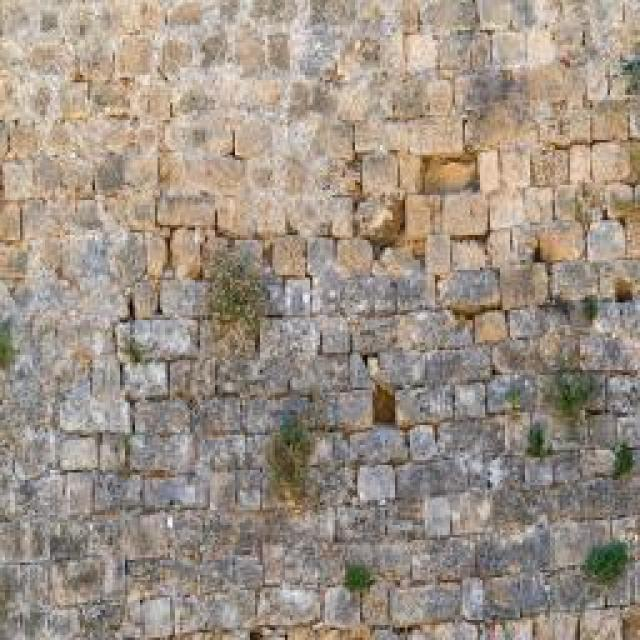vegetation: (0, 2, 637, 640), (258, 391, 340, 519), (203, 243, 270, 350), (544, 359, 600, 408), (584, 540, 629, 585)
